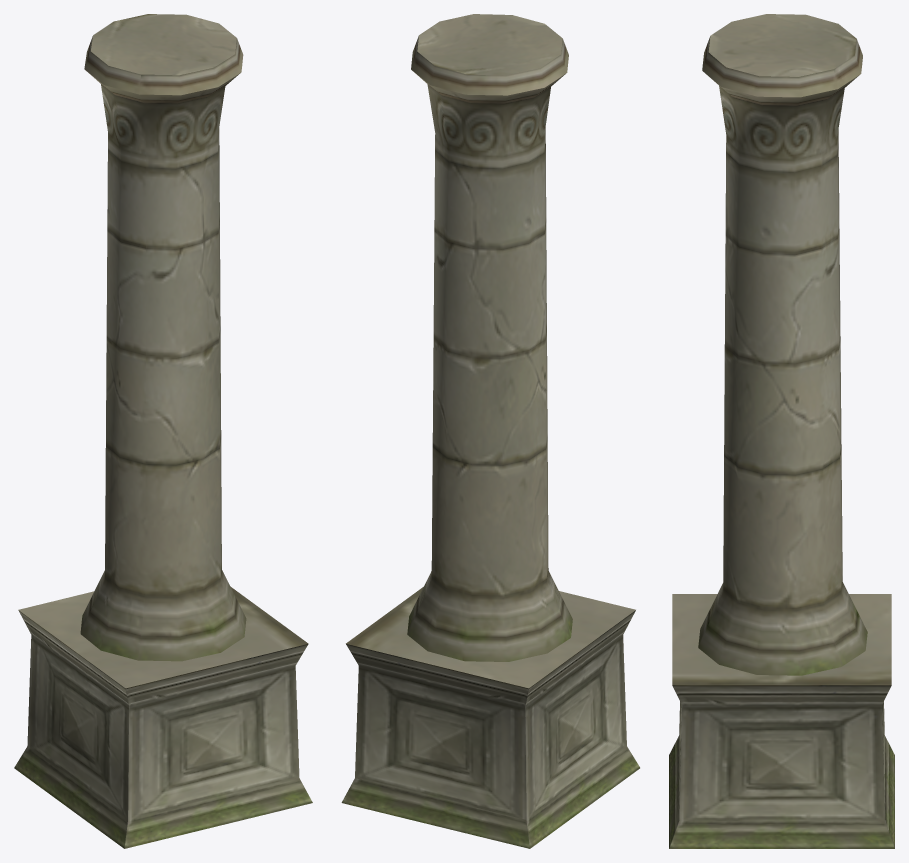
Rendered from greenruins09.FBX.
3 renders of one model, left to right at view 1: azimuth 30°, elevation 25°; view 2: azimuth 150°, elevation 25°; view 3: azimuth 270°, elevation 25°, orthographic. The views are drawn at different scales.
Parts seen in each view (by area): view 1: GreenRuins01_B; view 2: GreenRuins01_B; view 3: GreenRuins01_B.
Boxes of the visible parts, bbox=[...] form: GreenRuins01_B: bbox=[14, 14, 312, 848]; GreenRuins01_B: bbox=[341, 14, 639, 848]; GreenRuins01_B: bbox=[669, 14, 894, 848].
Bounding box in the file's own units: 290 × 1087 × 294.
1 material, 1 textured.
